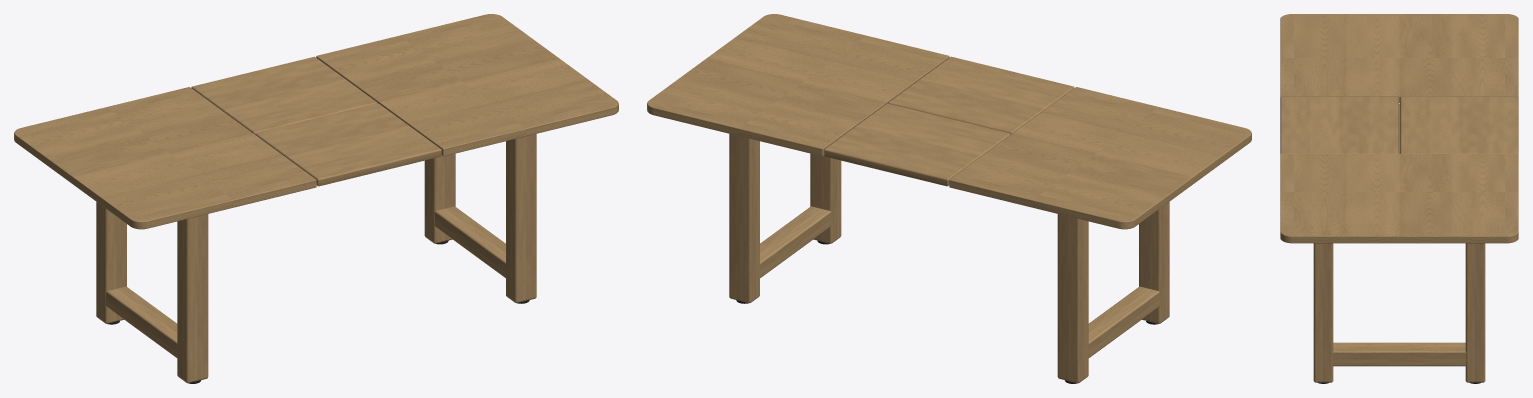
3 renders of one model, left to right at view 1: azimuth 30°, elevation 25°; view 2: azimuth 150°, elevation 25°; view 3: azimuth 270°, elevation 25°, orthographic. The views are drawn at different scales.
Parts seen in each view (by area): view 1: Sliding oak main top with straight mating edge, Sliding oak main top with straight mating edge.001, Folding butterfly half-leaf, Folding butterfly half-leaf.001, Oak portal upright, Oak portal upright.002, Oak portal upright.001, Portal lower tie, Portal lower tie.001, Oak portal upright.003; view 2: Sliding oak main top with straight mating edge, Sliding oak main top with straight mating edge.001, Folding butterfly half-leaf.001, Folding butterfly half-leaf, Oak portal upright.001, Oak portal upright.003, Oak portal upright, Portal lower tie, Portal lower tie.001, Oak portal upright.002; view 3: Sliding oak main top with straight mating edge.001, Sliding oak main top with straight mating edge, Folding butterfly half-leaf, Folding butterfly half-leaf.001, Portal lower tie.001, Oak portal upright.002, Oak portal upright.003.
Boxes of the visible parts, x1=… form: Sliding oak main top with straight mating edge: x1=14, y1=87, x2=316, y2=229; Sliding oak main top with straight mating edge.001: x1=316, y1=14, x2=618, y2=156; Folding butterfly half-leaf: x1=255, y1=103, x2=441, y2=186; Folding butterfly half-leaf.001: x1=191, y1=56, x2=377, y2=134; Oak portal upright: x1=177, y1=214, x2=208, y2=383; Oak portal upright.002: x1=506, y1=134, x2=536, y2=302; Oak portal upright.001: x1=96, y1=202, x2=126, y2=323; Portal lower tie: x1=106, y1=286, x2=177, y2=357; Portal lower tie.001: x1=434, y1=206, x2=505, y2=277; Oak portal upright.003: x1=424, y1=153, x2=455, y2=243; Sliding oak main top with straight mating edge: x1=949, y1=87, x2=1251, y2=229; Sliding oak main top with straight mating edge.001: x1=647, y1=14, x2=949, y2=156; Folding butterfly half-leaf.001: x1=824, y1=103, x2=1010, y2=186; Folding butterfly half-leaf: x1=888, y1=56, x2=1074, y2=134; Oak portal upright.001: x1=1057, y1=214, x2=1088, y2=383; Oak portal upright.003: x1=729, y1=134, x2=759, y2=302; Oak portal upright: x1=1139, y1=202, x2=1169, y2=323; Portal lower tie: x1=1088, y1=286, x2=1159, y2=357; Portal lower tie.001: x1=760, y1=206, x2=831, y2=277; Oak portal upright.002: x1=810, y1=153, x2=841, y2=243; Sliding oak main top with straight mating edge.001: x1=1280, y1=154, x2=1518, y2=243; Sliding oak main top with straight mating edge: x1=1280, y1=14, x2=1518, y2=103; Folding butterfly half-leaf: x1=1280, y1=97, x2=1398, y2=153; Folding butterfly half-leaf.001: x1=1400, y1=97, x2=1518, y2=153; Portal lower tie.001: x1=1332, y1=342, x2=1466, y2=366; Oak portal upright.002: x1=1313, y1=243, x2=1333, y2=382; Oak portal upright.003: x1=1465, y1=243, x2=1485, y2=382.
Bounding box in the file's own units: 2 × 0.756 × 0.904.
7 materials, 2 textured.
